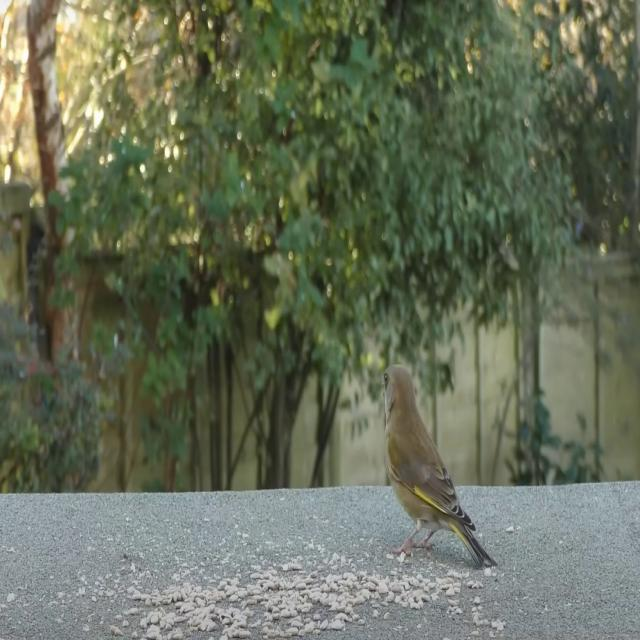bird: (374, 364, 496, 577)
